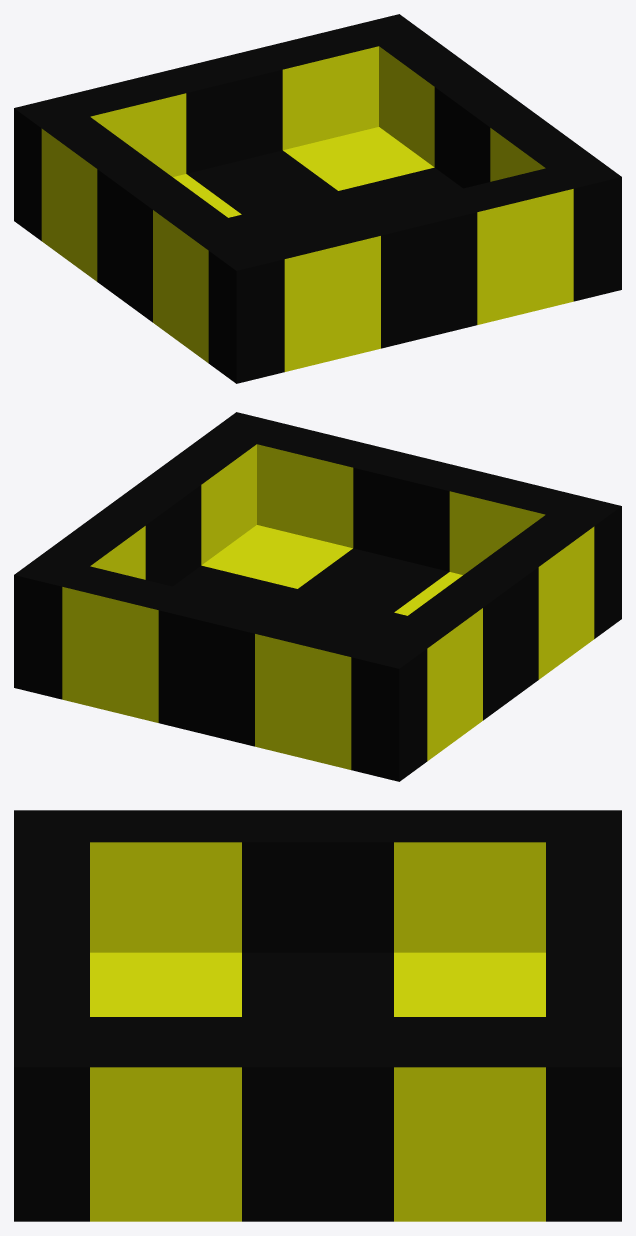
File: ASTestArena1.fbx
3 renders of one model, top to bottom at view 1: azimuth 30°, elevation 25°; view 2: azimuth 150°, elevation 25°; view 3: azimuth 270°, elevation 25°, orthographic. The views are drawn at different scales.
Parts seen in each view (by area): view 1: Cube; view 2: Cube; view 3: Cube.
Part boxes in pixels (x1=…): Cube: x1=14, y1=14, x2=621, y2=383; Cube: x1=14, y1=412, x2=621, y2=781; Cube: x1=14, y1=810, x2=621, y2=1221.
Bounding box in the file's own units: 2500 × 700 × 2500.
